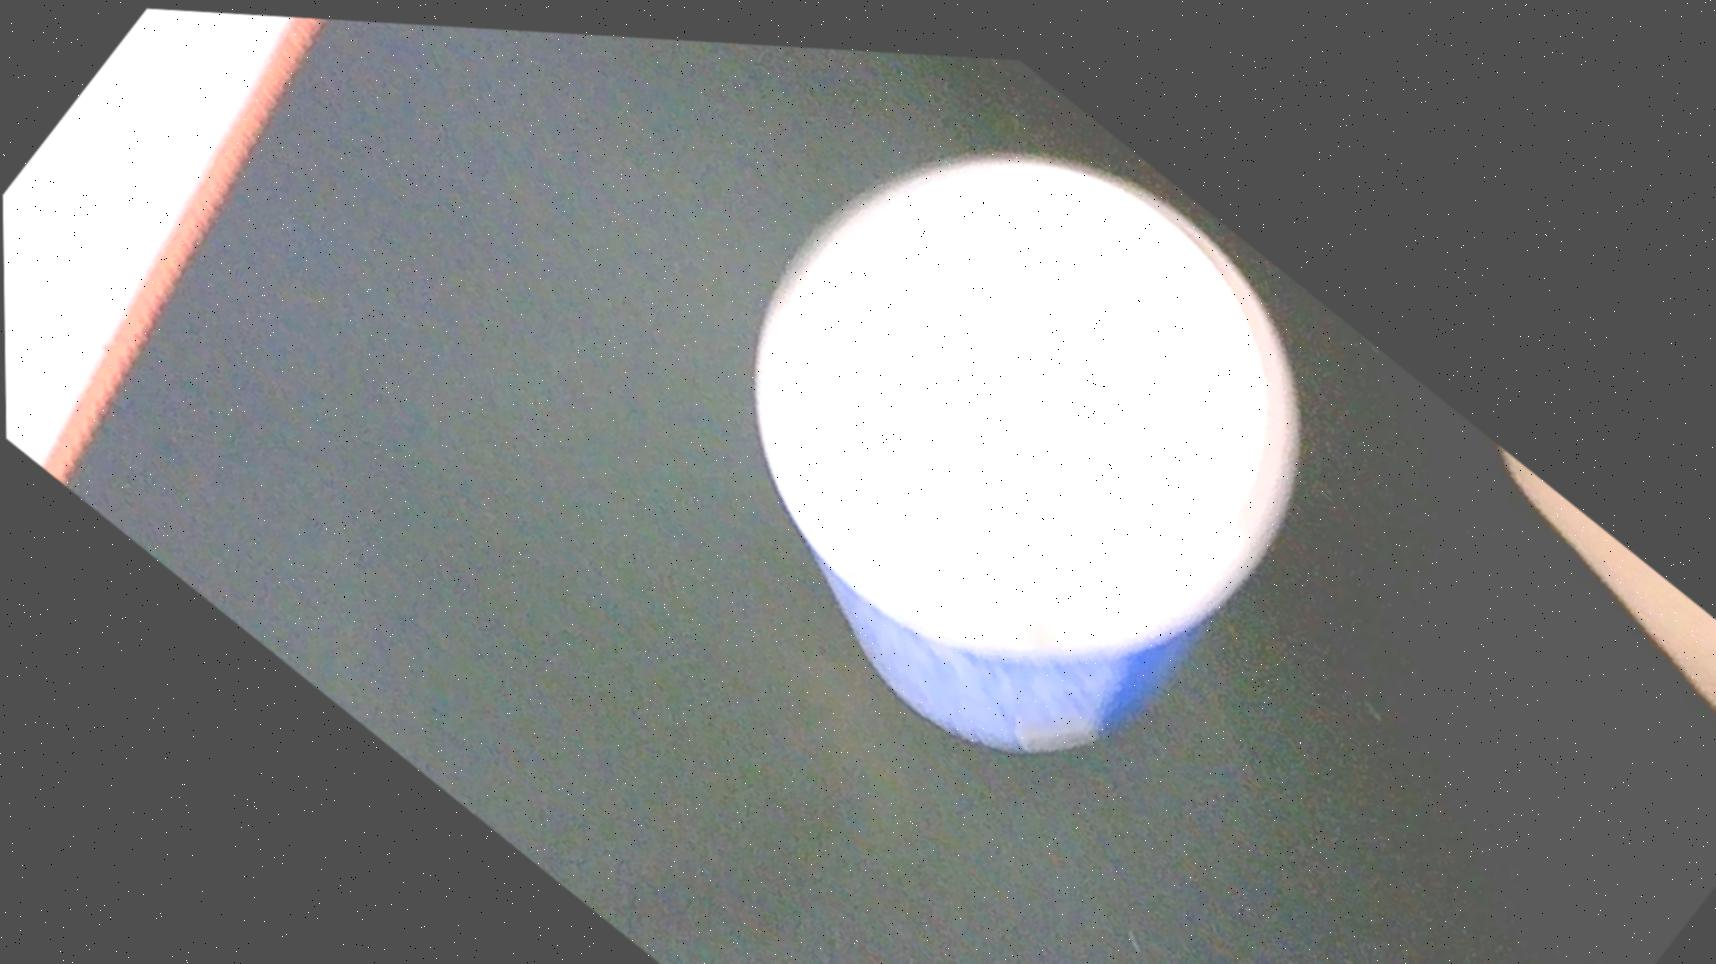letsbe: (616, 28, 1406, 833)
